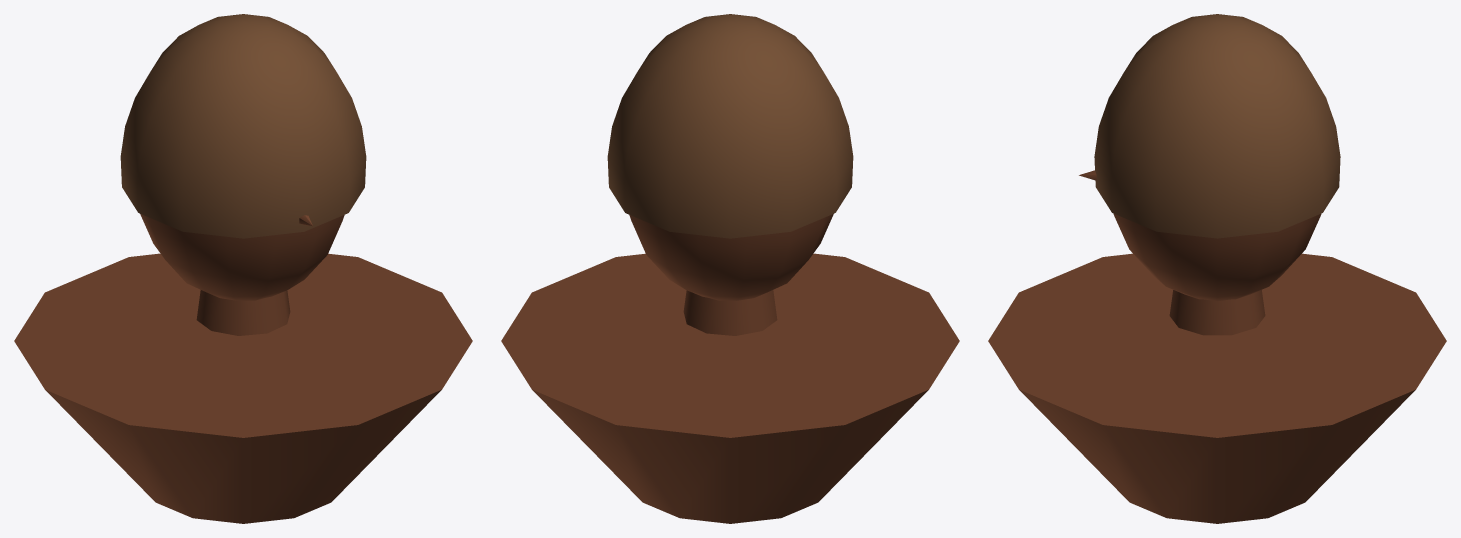
The model's file is raw_002.glb.
3 renders of one model, left to right at view 1: azimuth 30°, elevation 25°; view 2: azimuth 150°, elevation 25°; view 3: azimuth 270°, elevation 25°, orthographic.
Bounding box in the file's own units: 2.01 × 2.22 × 2.01.
